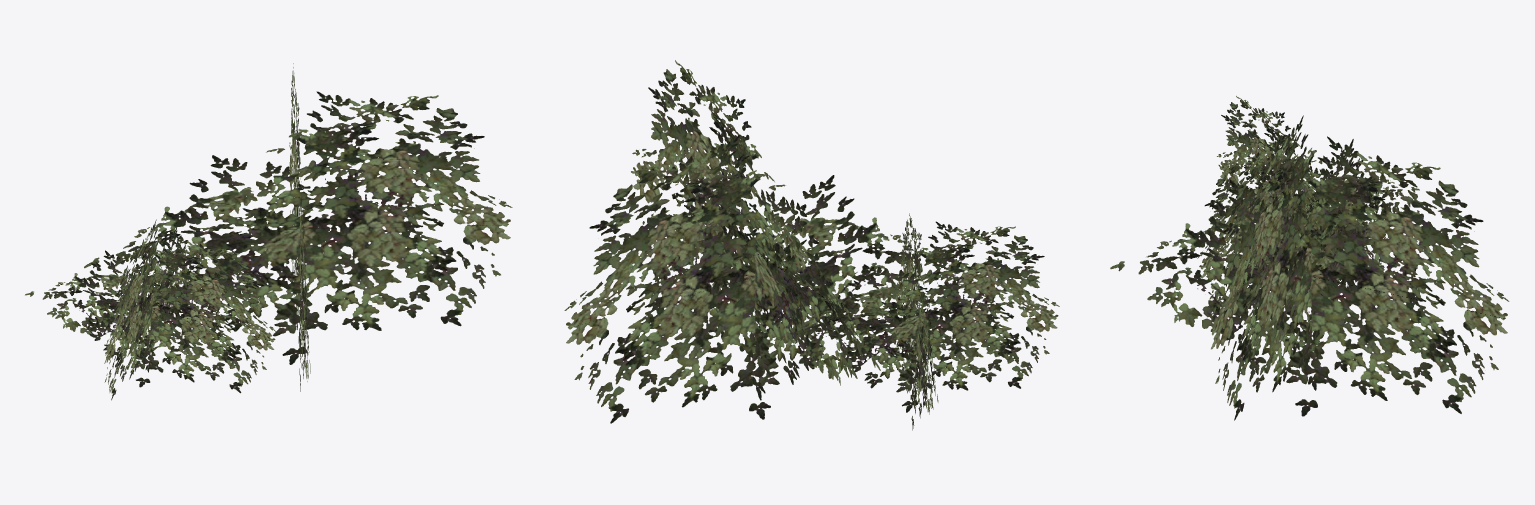
File: decd_saplingclump_lg_l3.fbx
3 renders of one model, left to right at view 1: azimuth 30°, elevation 25°; view 2: azimuth 150°, elevation 25°; view 3: azimuth 270°, elevation 25°, orthographic. The views are drawn at different scales.
Visible parts, largest first — view 1: mesh_node; view 2: mesh_node; view 3: mesh_node.
Boxes of the visible parts, bbox=[...] form: mesh_node: bbox=[25, 63, 512, 400]; mesh_node: bbox=[564, 60, 1059, 430]; mesh_node: bbox=[1110, 96, 1509, 420].
Size of the model in its own units: 5.54 by 3.91 by 4.58.
